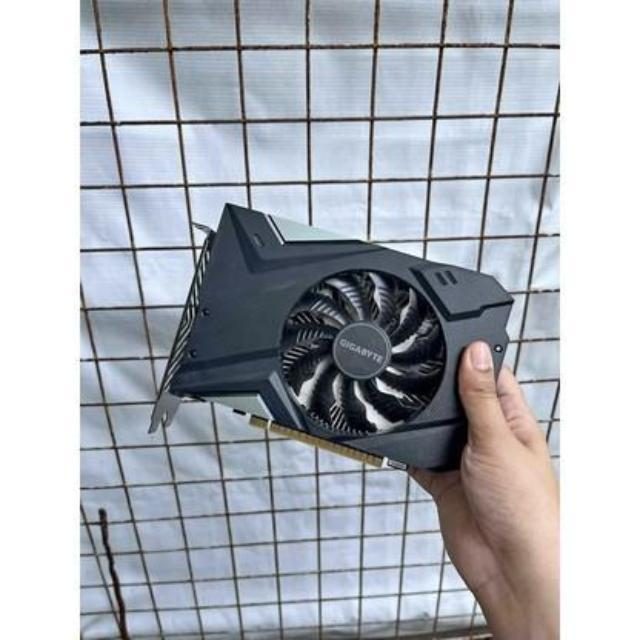GPU: (150, 193, 518, 485)
